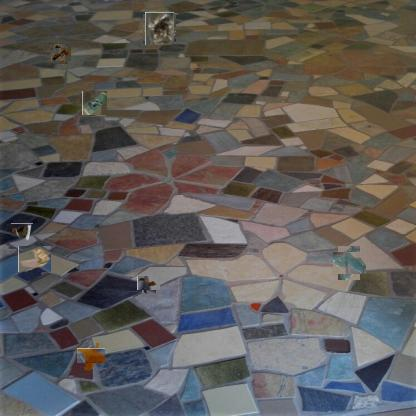dirty: (144, 13, 175, 44), (18, 246, 51, 272), (82, 91, 107, 116), (11, 223, 33, 242), (140, 274, 158, 293), (52, 46, 70, 63)
liquid: (335, 249, 363, 277), (81, 345, 102, 367)
